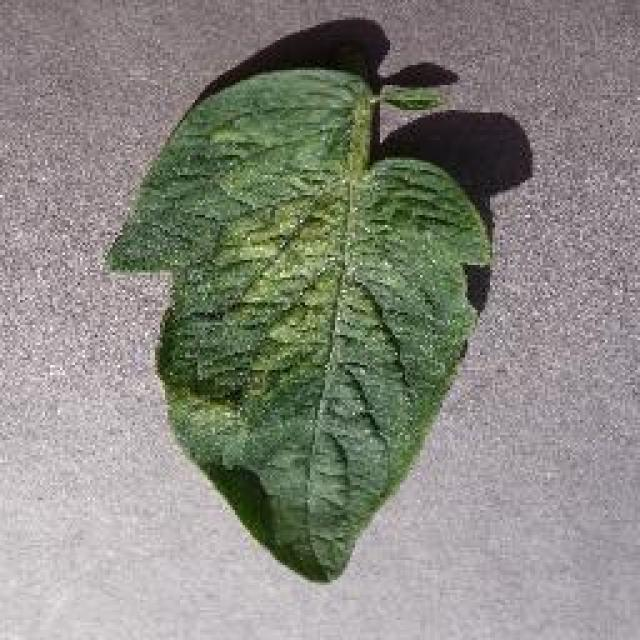Tomato___Spider_mites Two-spotted_spider_mite: (108, 70, 490, 580)
